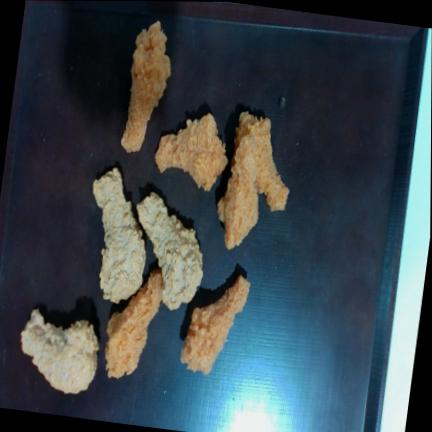chicken: (137, 192, 202, 308), (93, 168, 145, 302), (180, 275, 249, 373), (21, 309, 98, 393), (121, 21, 170, 152), (105, 269, 162, 377), (155, 112, 227, 191), (235, 112, 288, 211), (217, 135, 258, 248)
